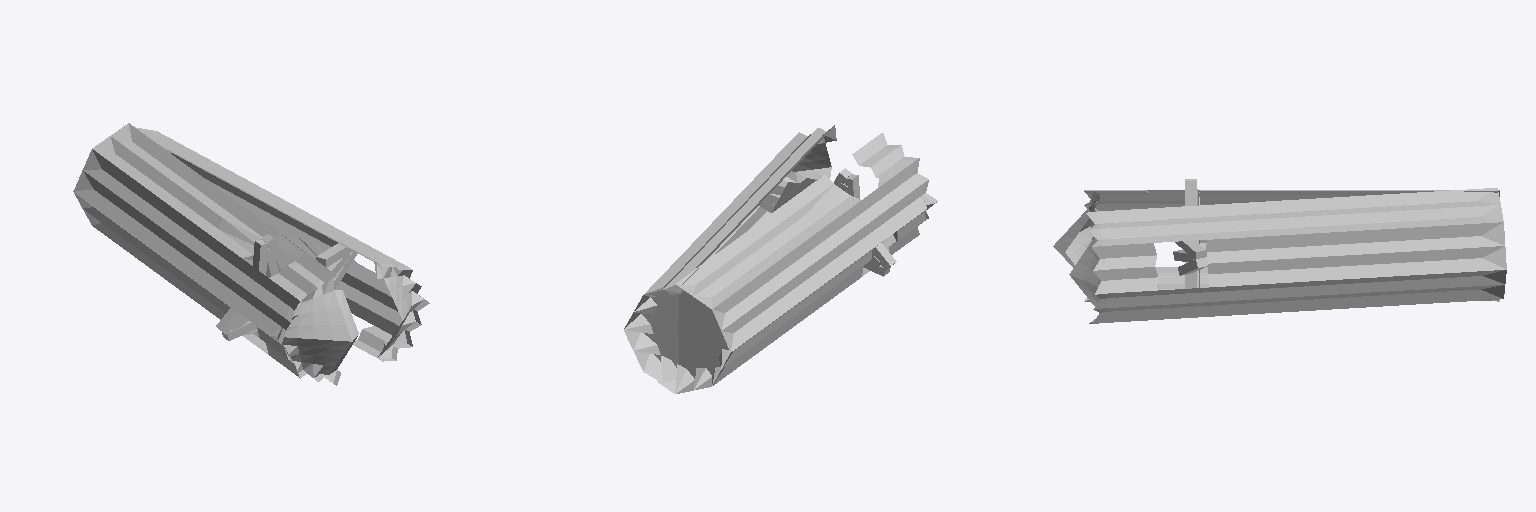
The model's file is ballistictower1d.obj.
3 renders of one model, left to right at view 1: azimuth 30°, elevation 25°; view 2: azimuth 150°, elevation 25°; view 3: azimuth 270°, elevation 25°, orthographic.
Visible parts, largest first — view 1: Cube, Cube.013; view 2: Cube, Cube.013; view 3: Cube.013, Cube.
Part boxes in pixels (x1,y1,x2,y2): Cube: (73, 123, 358, 385); Cube.013: (123, 125, 429, 361); Cube: (657, 133, 937, 393); Cube.013: (624, 125, 836, 383); Cube.013: (1069, 188, 1506, 323); Cube: (1053, 190, 1499, 301).
Bounding box in the file's own units: 0.6204 × 0.437 × 1.49.